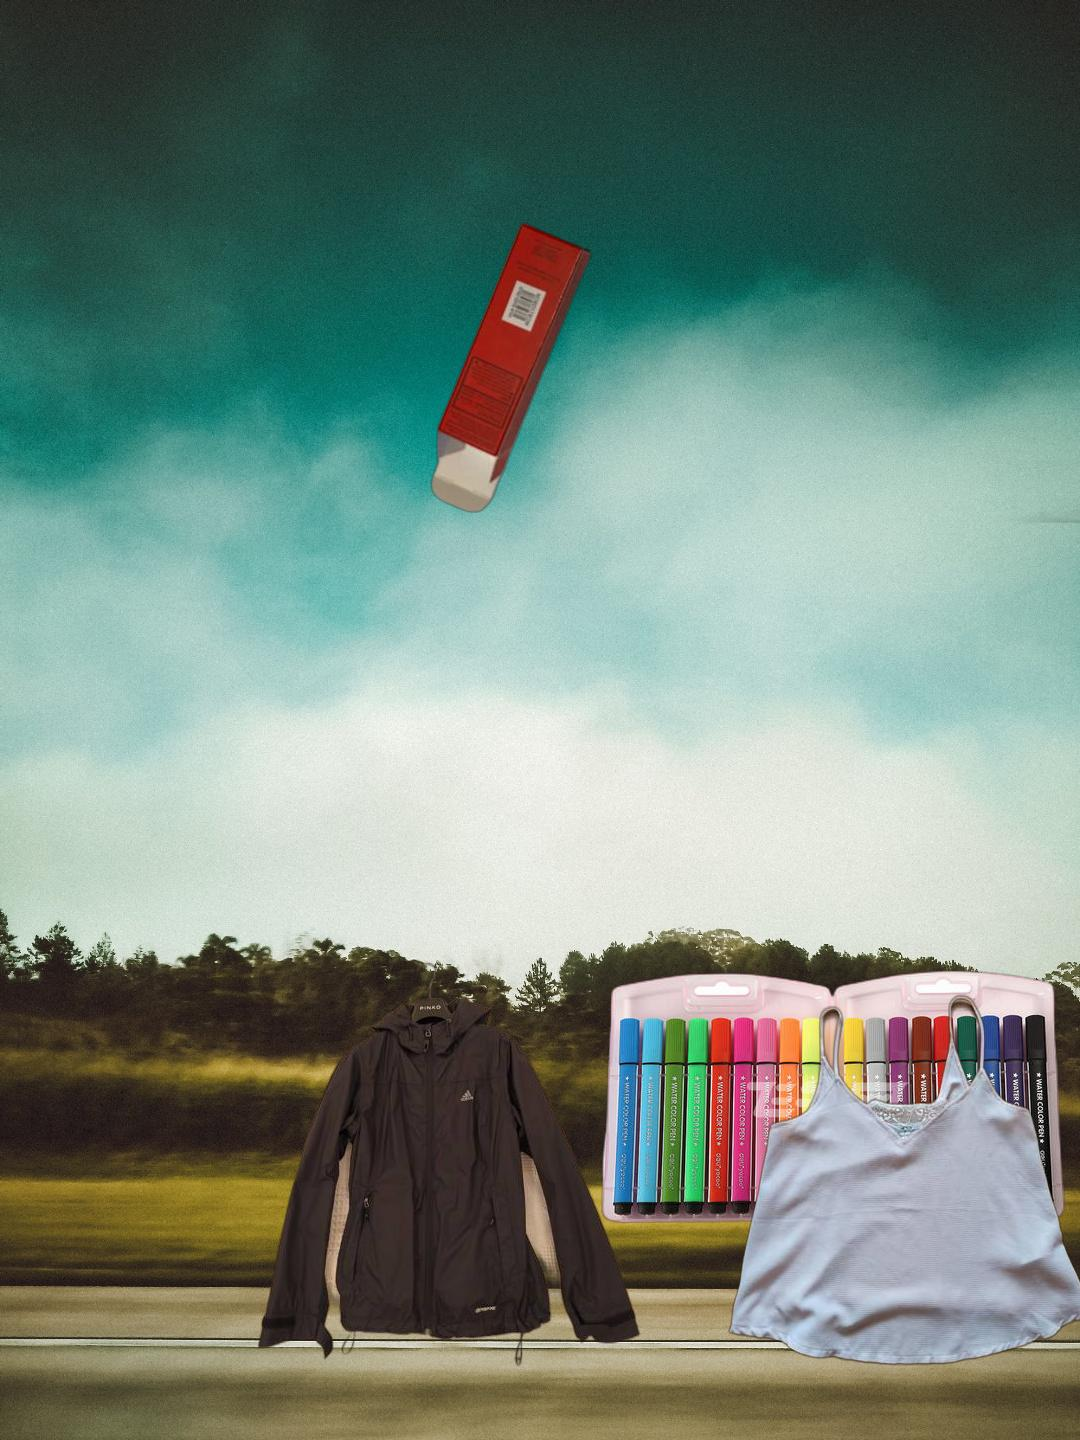clothes: (254, 958, 642, 1370), (727, 991, 1080, 1369)
paper: (427, 219, 596, 515)
penholder: (598, 966, 1069, 1227)
trashbox-cardboard: (978, 457, 1080, 664)
